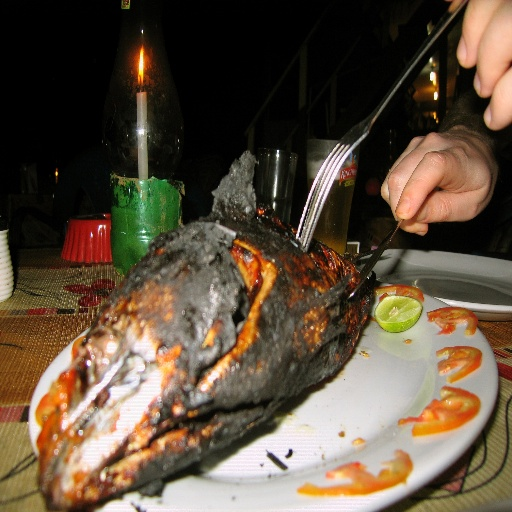hand: (379, 123, 504, 240), (445, 0, 512, 156)
